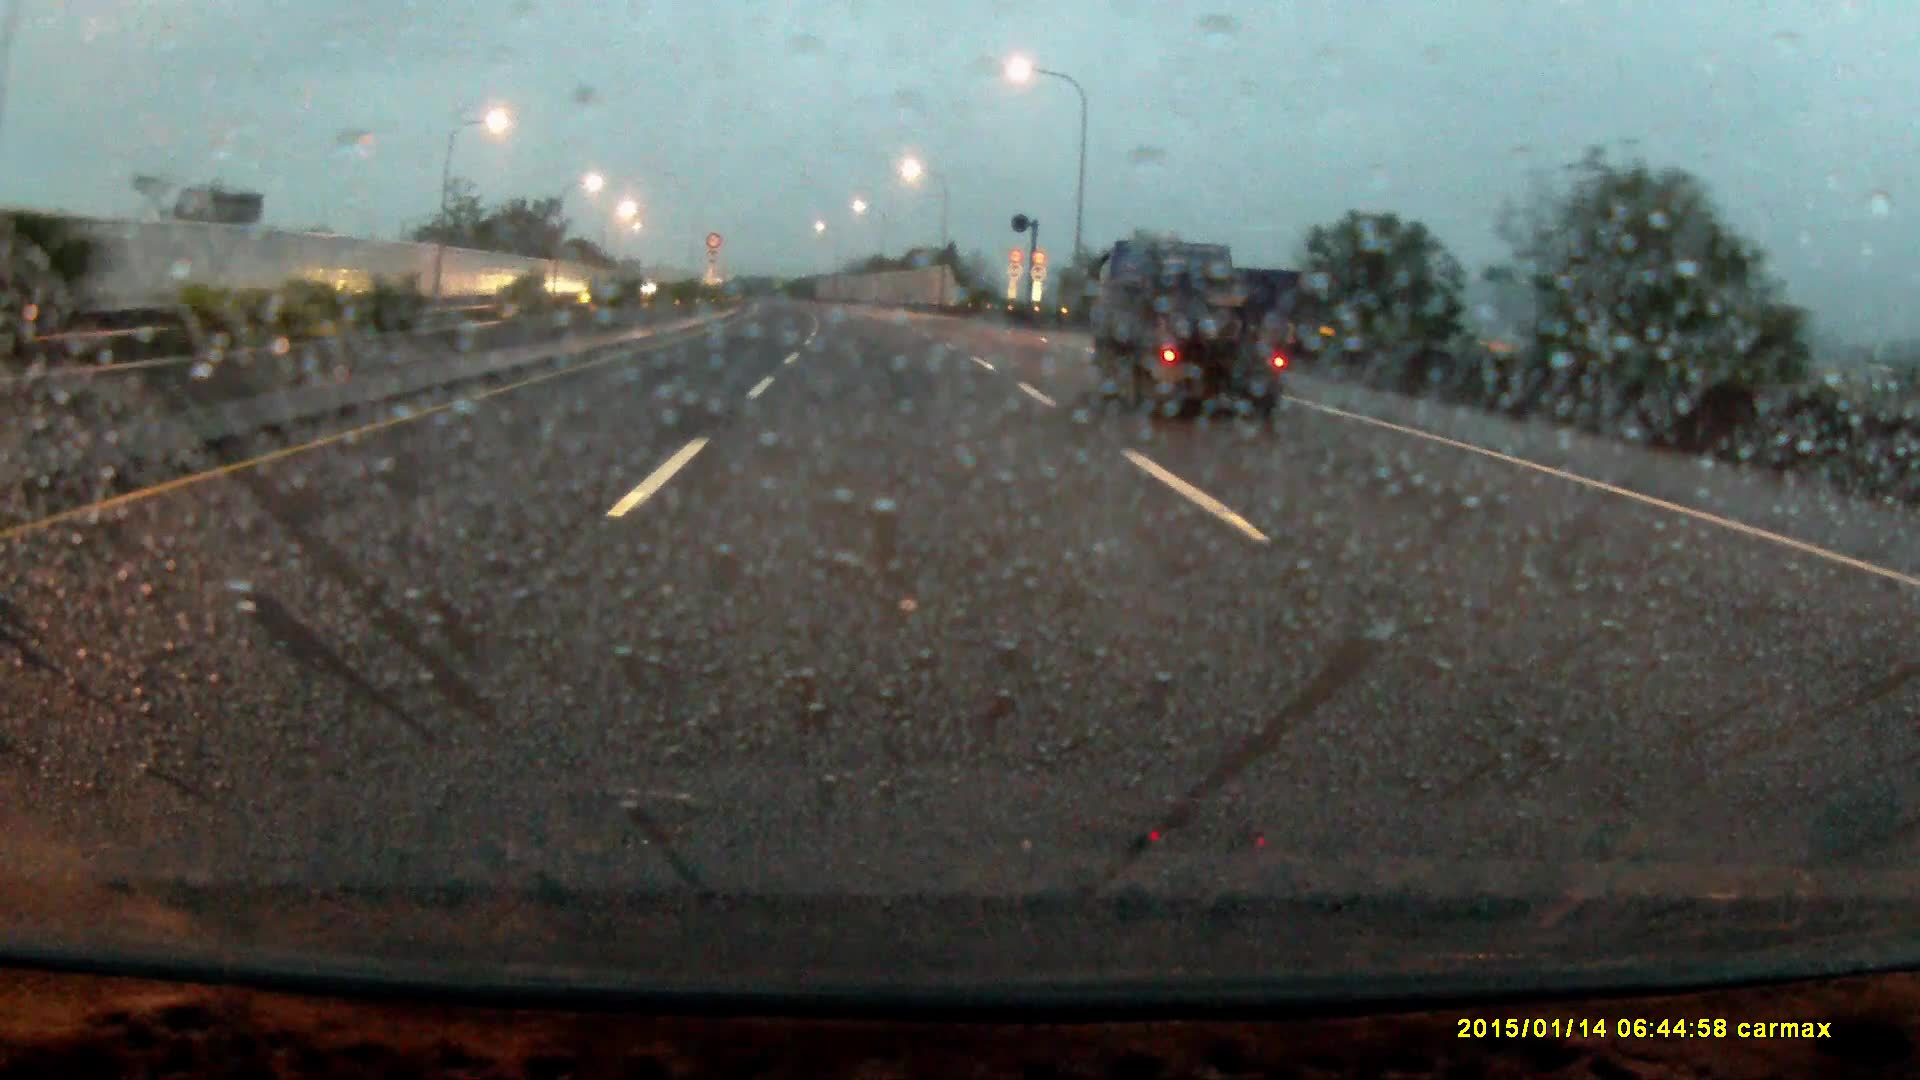vehicle: (1089, 243, 1296, 417)
